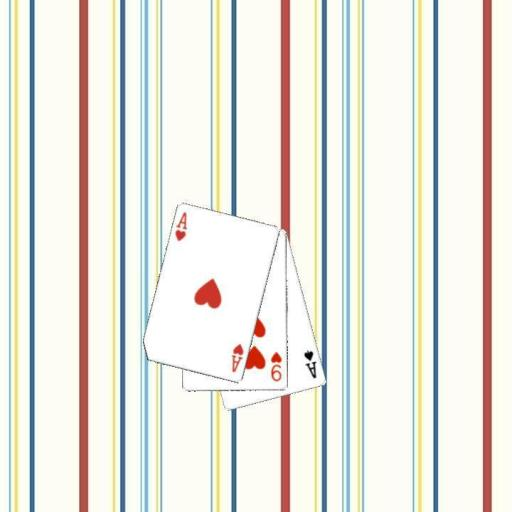card-corner: (228, 341, 246, 374), (172, 209, 189, 243), (301, 347, 318, 380), (268, 349, 284, 383)
